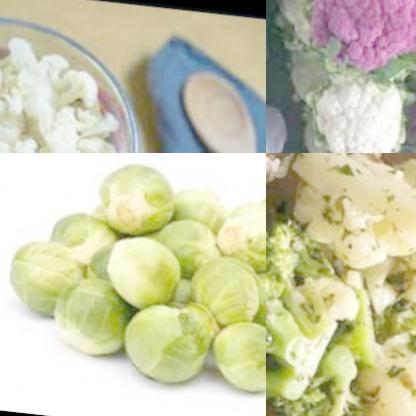broccoli: (266, 216, 336, 363)
brus capusta: (10, 153, 266, 395)
cayliflower: (0, 24, 136, 153), (271, 153, 416, 273), (302, 56, 416, 153), (360, 244, 416, 416), (308, 0, 416, 77)
